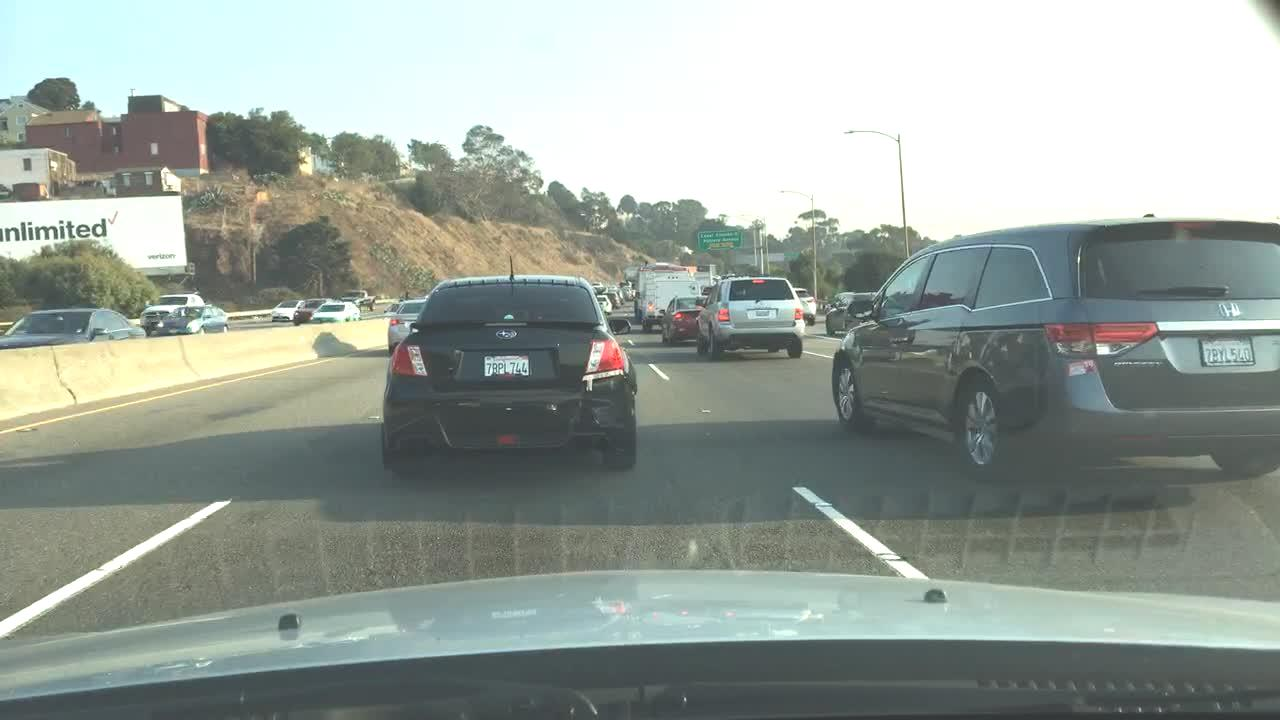Honda: (1210, 298, 1245, 322)
subaru: (496, 328, 518, 341)
